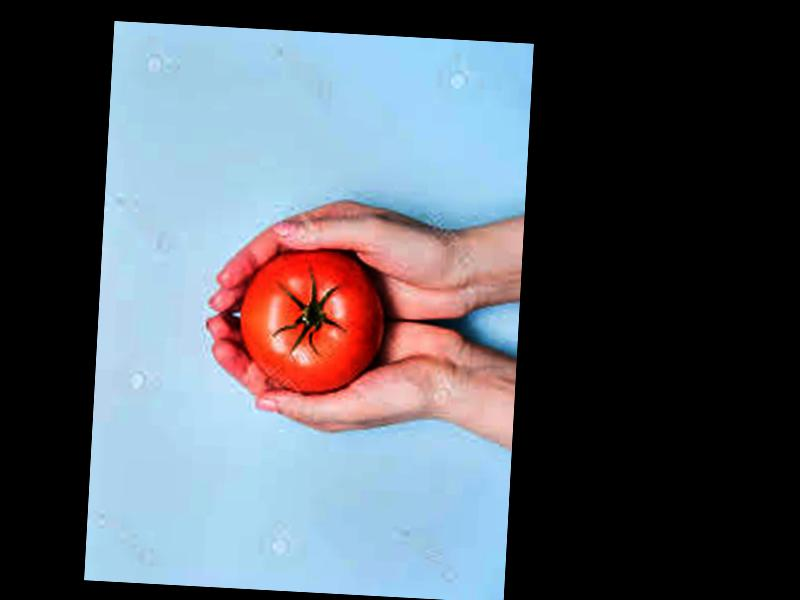Tomato: (237, 241, 387, 397)
